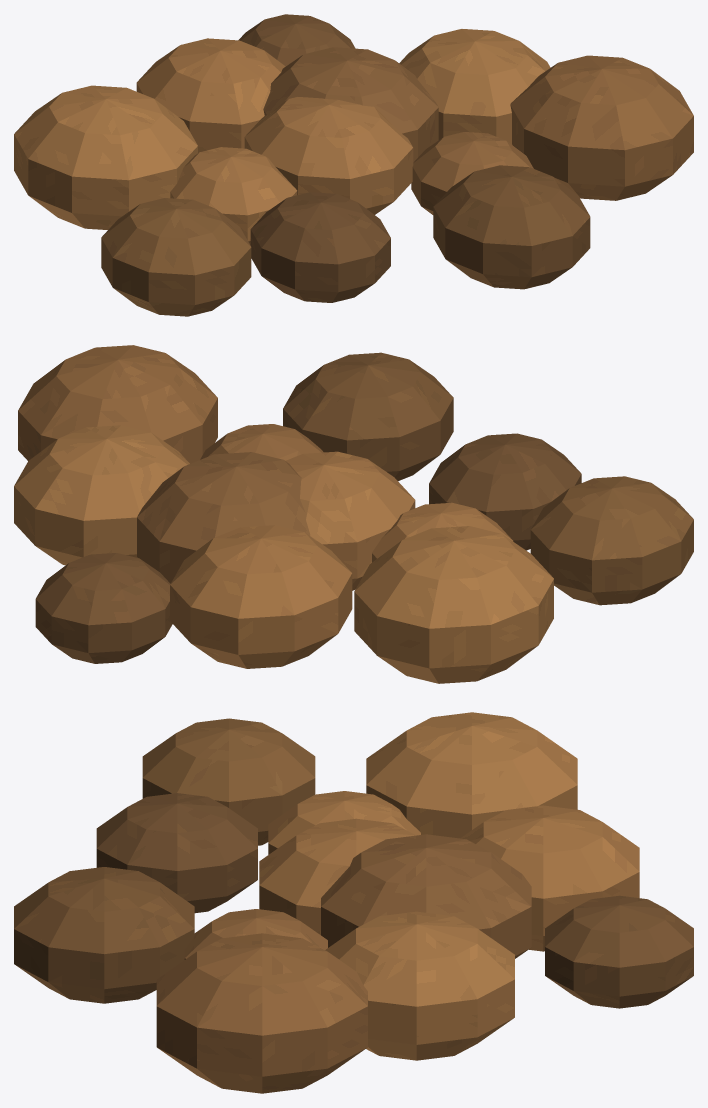
File: kernels.glb
The picture shows the model from 3 angles, top to bottom: view 1: azimuth 30°, elevation 25°; view 2: azimuth 150°, elevation 25°; view 3: azimuth 270°, elevation 25°; orthographic projection. The views are drawn at different scales.
Parts seen in each view (by area): view 1: block_grain 11, block_grain 7, block_grain 8, block_grain 10, block_grain 0, block_grain 5, block_grain 4, block_grain 6, block_grain 1, block_grain 2, block_grain 3, block_grain 9; view 2: block_grain 7, block_grain 4, block_grain 6, block_grain 10, block_grain 11, block_grain 8, block_grain 1, block_grain 9, block_grain 5, block_grain 0, block_grain 2, block_grain 3; view 3: block_grain 11, block_grain 6, block_grain 8, block_grain 7, block_grain 1, block_grain 9, block_grain 5, block_grain 10, block_grain 4, block_grain 0, block_grain 2, block_grain 3.
Boxes of the visible parts, x1,y1,x2,y2 form: block_grain 11: (510, 55, 693, 200); block_grain 7: (14, 85, 197, 229); block_grain 8: (433, 165, 590, 289); block_grain 10: (101, 198, 251, 316); block_grain 0: (244, 97, 413, 214); block_grain 5: (250, 192, 390, 302); block_grain 4: (136, 38, 285, 152); block_grain 6: (399, 29, 550, 144); block_grain 1: (263, 47, 438, 162); block_grain 2: (170, 147, 297, 244); block_grain 3: (411, 132, 533, 214); block_grain 9: (238, 14, 355, 66); block_grain 7: (354, 526, 553, 683); block_grain 4: (170, 525, 352, 668); block_grain 6: (14, 425, 189, 565); block_grain 10: (530, 476, 693, 605); block_grain 11: (18, 345, 217, 463); block_grain 8: (283, 352, 453, 480); block_grain 1: (137, 452, 310, 583); block_grain 9: (35, 553, 172, 663); block_grain 5: (429, 433, 581, 550); block_grain 0: (286, 451, 415, 590); block_grain 2: (372, 502, 513, 562); block_grain 3: (200, 424, 323, 460); block_grain 11: (156, 933, 367, 1093); block_grain 6: (325, 911, 514, 1060); block_grain 8: (14, 867, 194, 1003); block_grain 7: (366, 712, 577, 838); block_grain 1: (321, 834, 531, 958); block_grain 9: (545, 895, 693, 1008); block_grain 5: (96, 793, 257, 913); block_grain 10: (142, 718, 315, 845); block_grain 4: (460, 805, 639, 951); block_grain 0: (259, 818, 415, 934); block_grain 2: (268, 791, 420, 854); block_grain 3: (184, 909, 327, 959).
Size of the model in its own units: 0.079 by 0.0153 by 0.071.
1 material, 1 textured.
